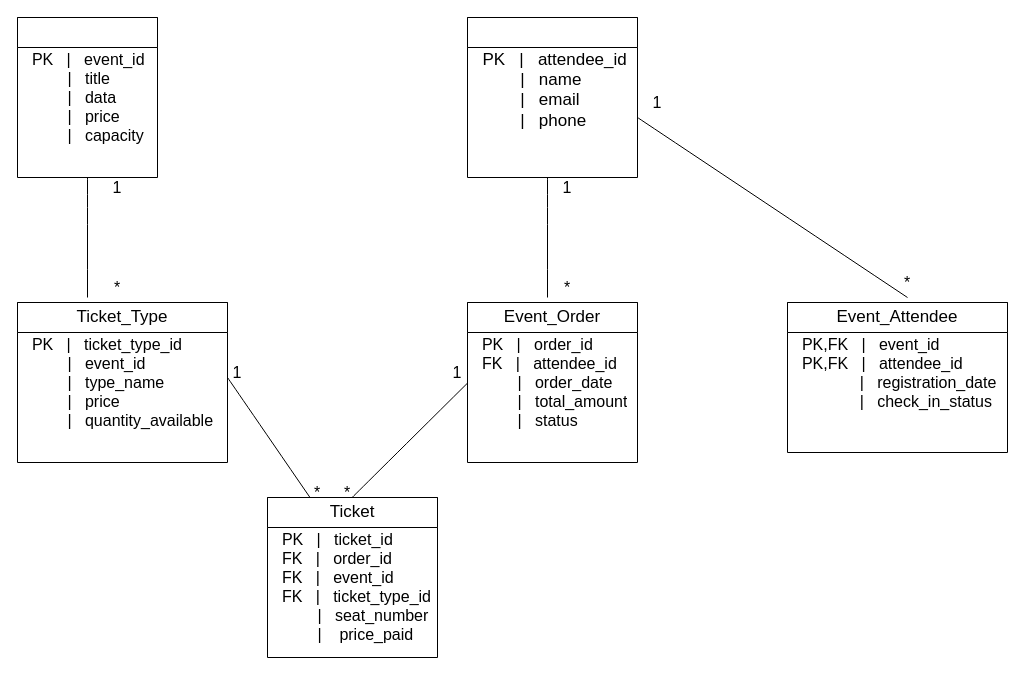
This 1025x675 diagram has some shape labels left out. Here are the shapes that lost their labels. From the top down, the centre of each, then its label:
(87,32): Event
(552,32): Attendee
